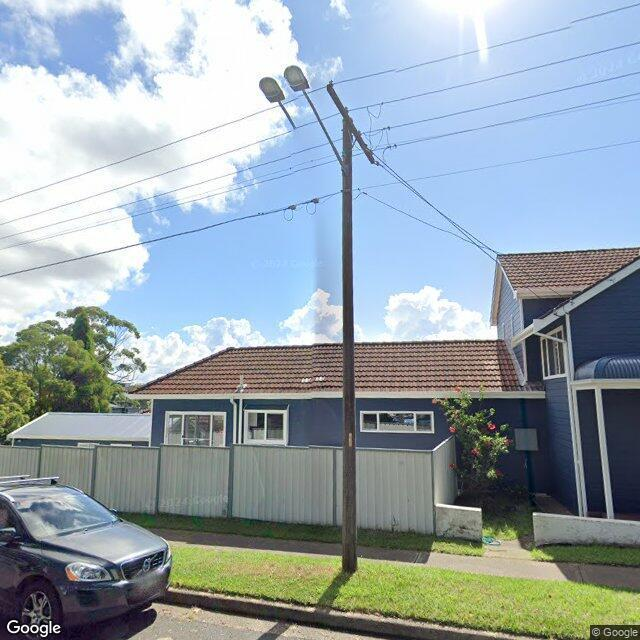crossarm: (326, 84, 374, 165)
streetlight: (258, 64, 348, 176)
timber-pole: (343, 117, 357, 574)
